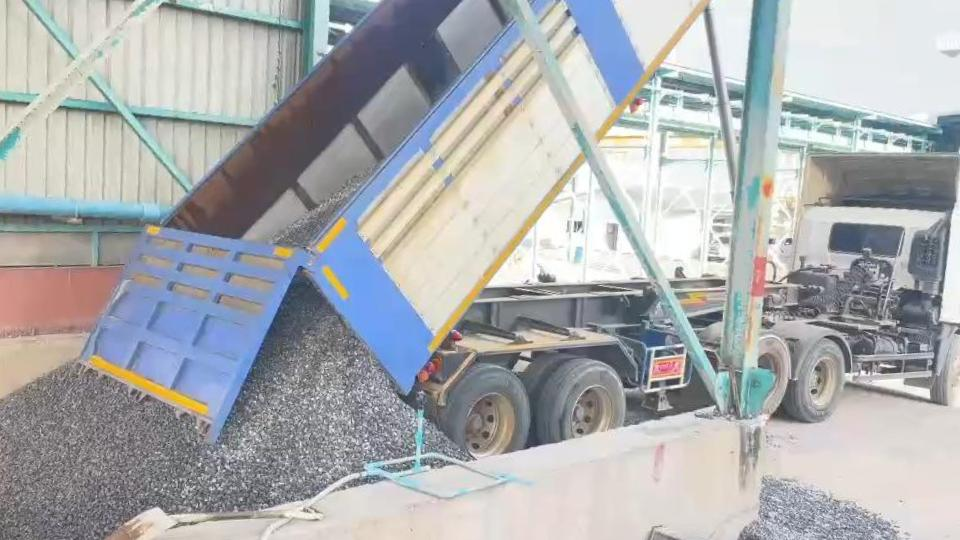gravel: (0, 279, 414, 540), (741, 477, 906, 540), (271, 165, 377, 247)
